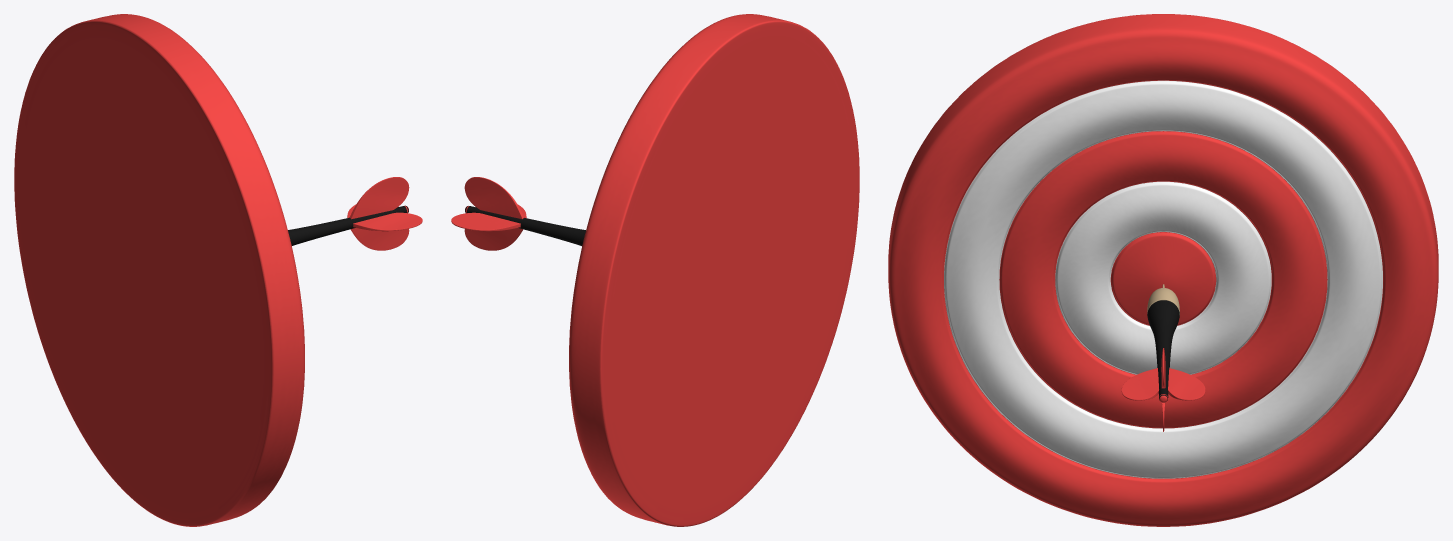
File: Target-transformed.glb
3 views of the same model, side by side, from view 1: azimuth 30°, elevation 25°; view 2: azimuth 150°, elevation 25°; view 3: azimuth 270°, elevation 25° (orthographic). The views are drawn at different scales.
Parts seen in each view (by area): view 1: Cylinder, Cylinder.001; view 2: Cylinder, Cylinder.001; view 3: Cylinder, Cylinder.001.
Boxes of the visible parts, x1=… form: Cylinder: x1=14, y1=14, x2=304, y2=526; Cylinder.001: x1=288, y1=177, x2=422, y2=250; Cylinder: x1=569, y1=14, x2=859, y2=526; Cylinder.001: x1=451, y1=177, x2=585, y2=250; Cylinder: x1=888, y1=14, x2=1438, y2=526; Cylinder.001: x1=1121, y1=284, x2=1205, y2=431.
Bounding box in the file's own units: 1.18 × 1.99 × 1.99.
